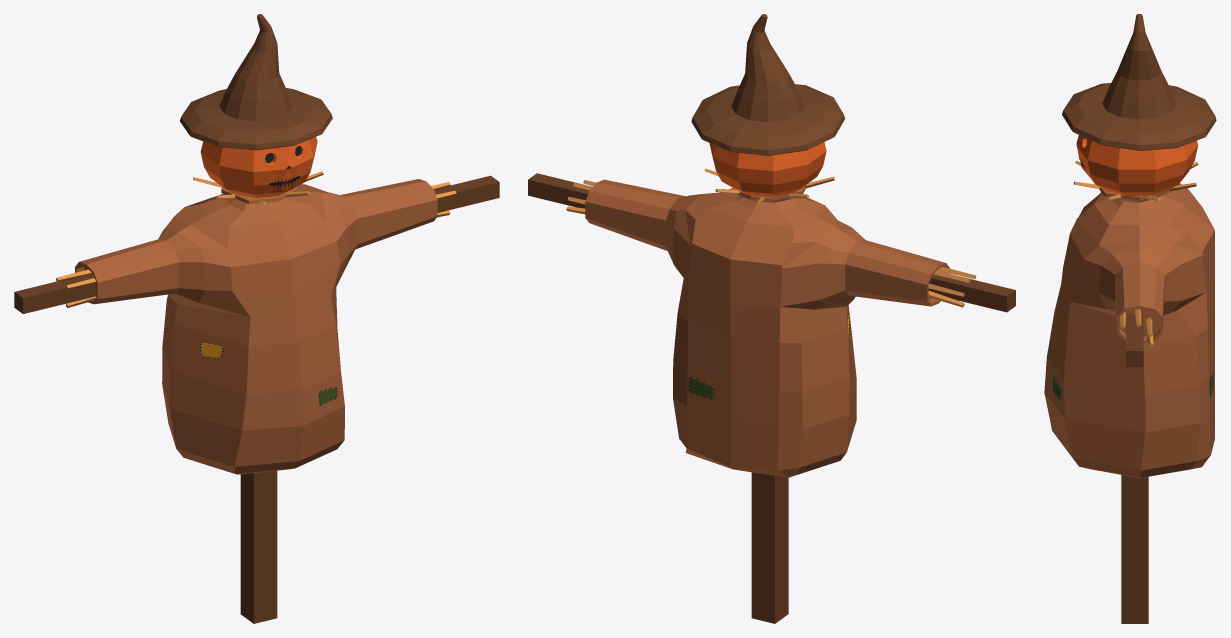
The model's file is ScareCrow_1.fbx.
3 views of the same model, side by side, from view 1: azimuth 30°, elevation 25°; view 2: azimuth 150°, elevation 25°; view 3: azimuth 270°, elevation 25° (orthographic).
Parts seen in each view (by area): view 1: ScareCrow_1; view 2: ScareCrow_1; view 3: ScareCrow_1.
Part boxes in pixels (box(x1,y1,x2,y2)): ScareCrow_1: box(14, 14, 499, 623); ScareCrow_1: box(528, 14, 1015, 623); ScareCrow_1: box(1044, 14, 1216, 623).
Size of the model in its own units: 201 by 242 by 62.32.
